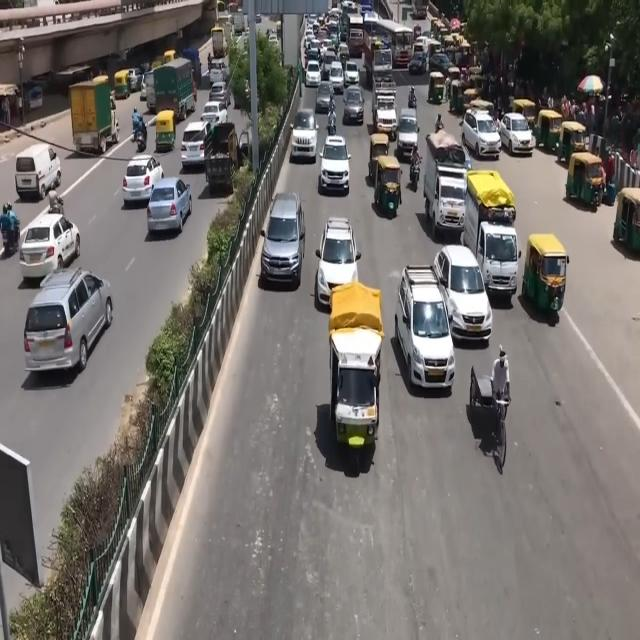auto: (462, 170, 518, 266), (69, 77, 119, 156), (521, 232, 568, 315), (564, 150, 604, 208), (372, 154, 402, 218), (613, 187, 640, 255), (557, 118, 587, 165), (534, 108, 564, 155), (372, 93, 398, 142), (368, 133, 390, 183), (155, 108, 176, 152), (512, 98, 537, 132), (427, 70, 446, 104), (450, 78, 467, 113), (462, 86, 480, 114), (114, 69, 130, 99)
bike-auto: (410, 144, 422, 197), (132, 115, 148, 152), (328, 108, 337, 136), (328, 87, 336, 114), (408, 89, 418, 109)
